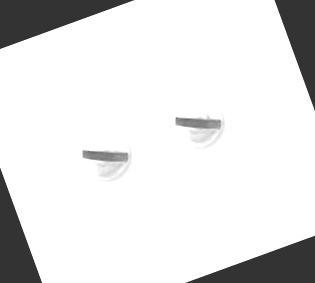slotted: (164, 87, 231, 158), (72, 122, 138, 190)
